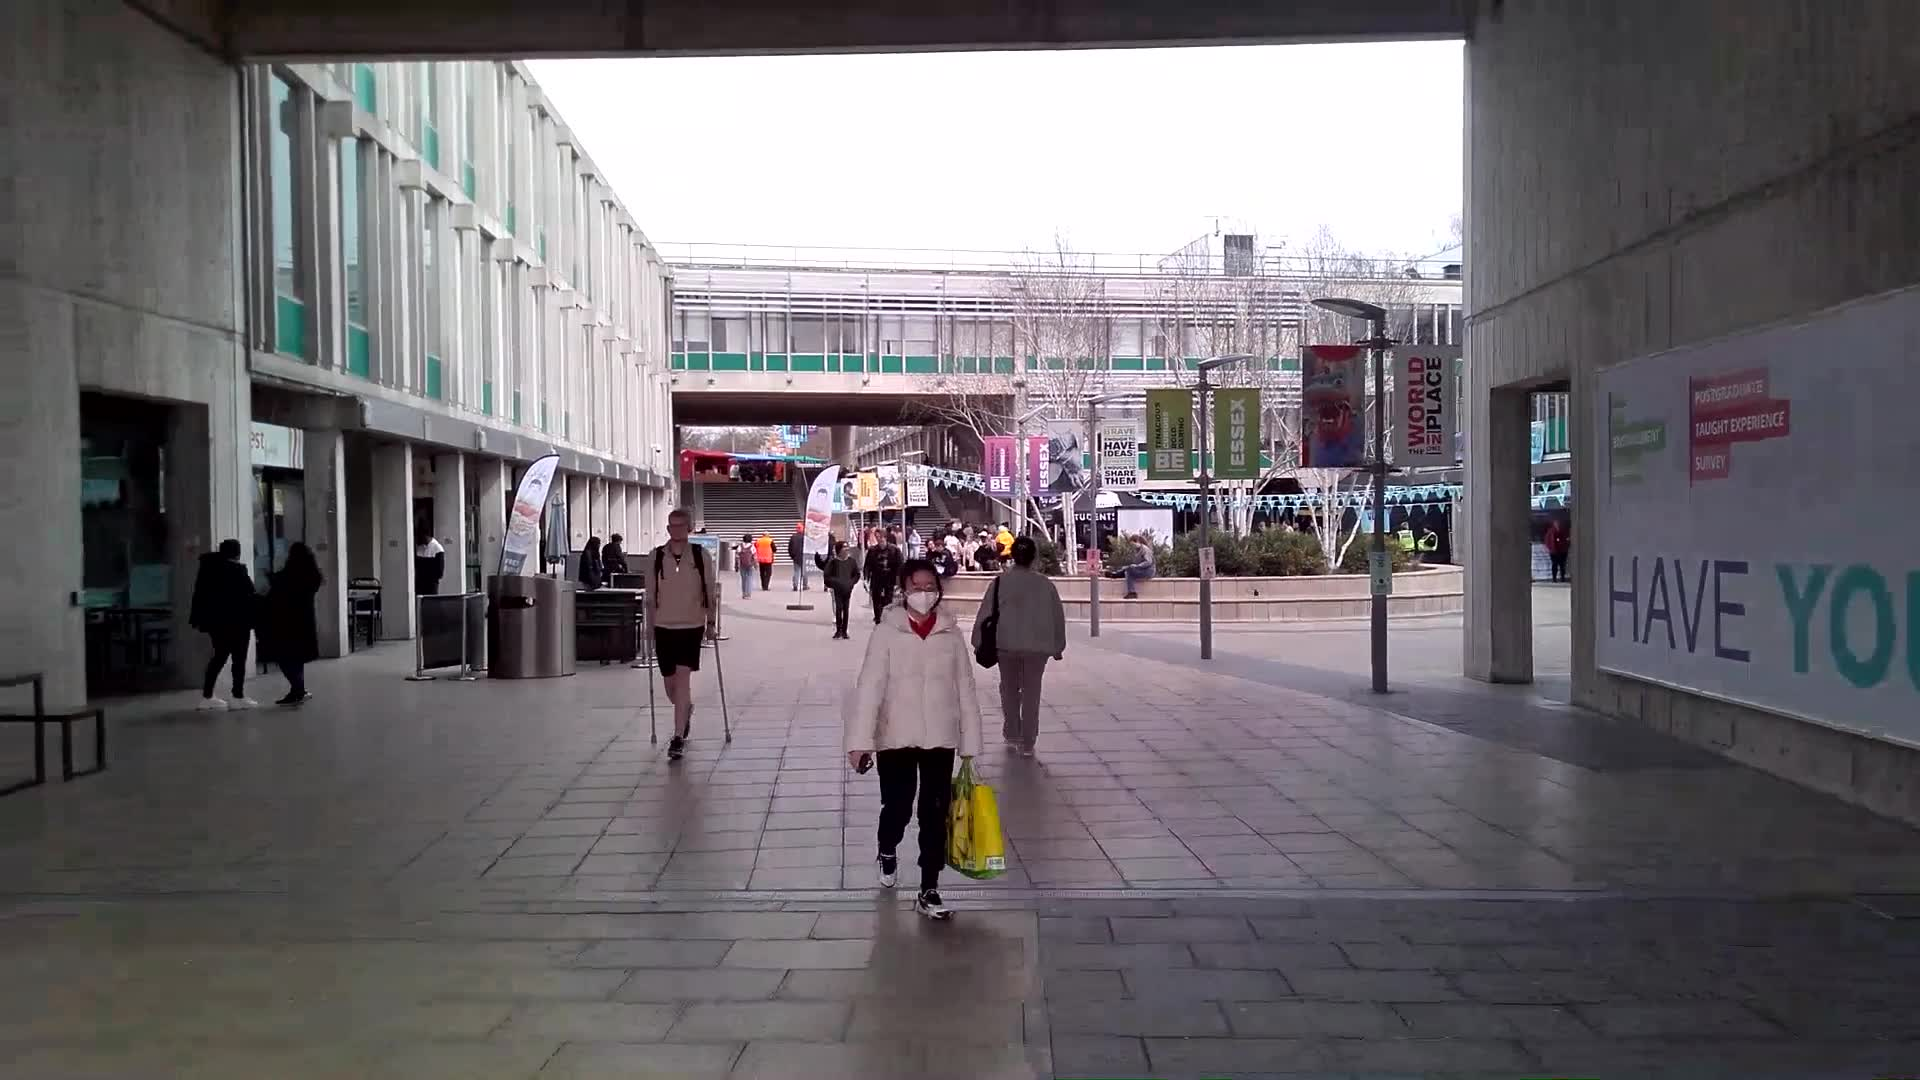Backpack: (942, 771, 1012, 882), (976, 617, 993, 667)
Bin: (488, 575, 578, 681)
Person: (872, 562, 972, 937), (650, 510, 721, 767), (990, 534, 1057, 759), (198, 537, 260, 718), (264, 535, 326, 713), (1112, 533, 1162, 602), (824, 534, 853, 635), (405, 523, 444, 597), (602, 534, 629, 590), (581, 533, 604, 595)
